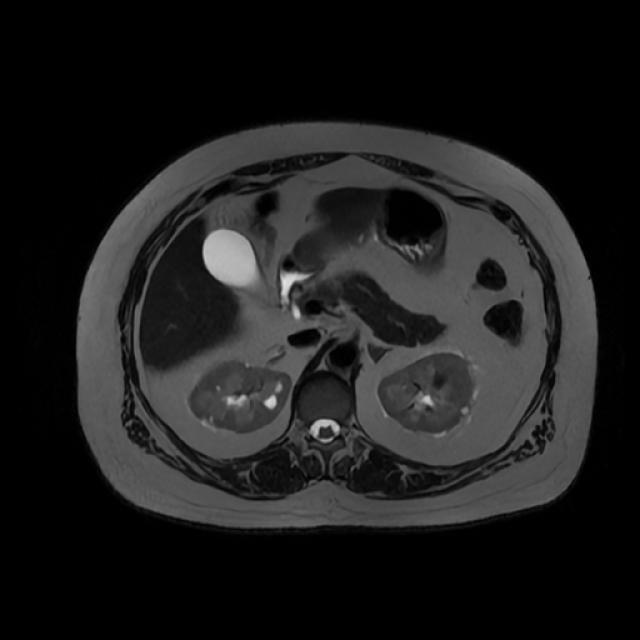sag: (185, 359, 292, 434)
sol: (374, 351, 475, 433)
